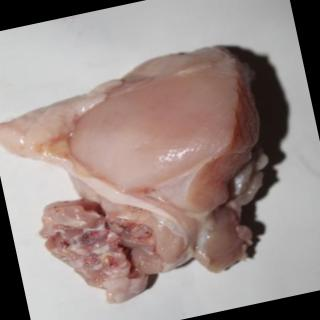Ayam: (1, 39, 290, 320)
